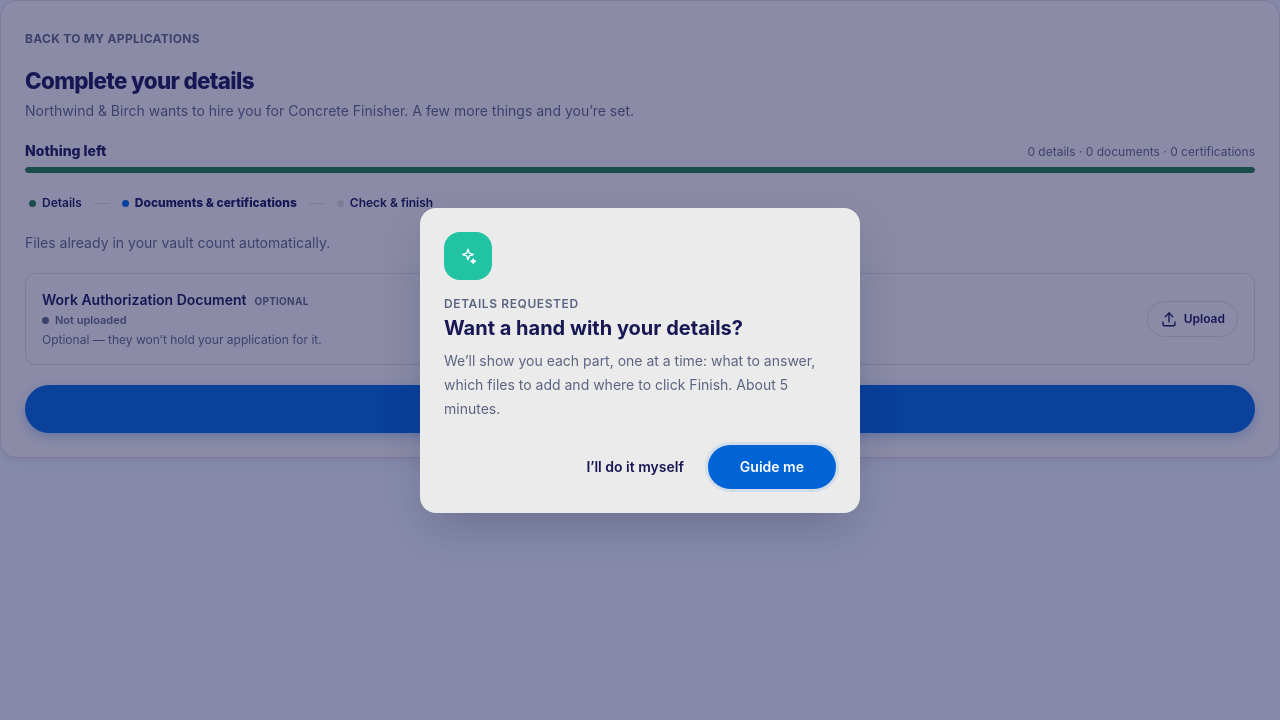
it: worker_details guide — Documents & certifications › lets an optional document go without a file
The image size is (1280, 720).
Click the button "Guide me" at (772, 466), box [708,444,836,488]
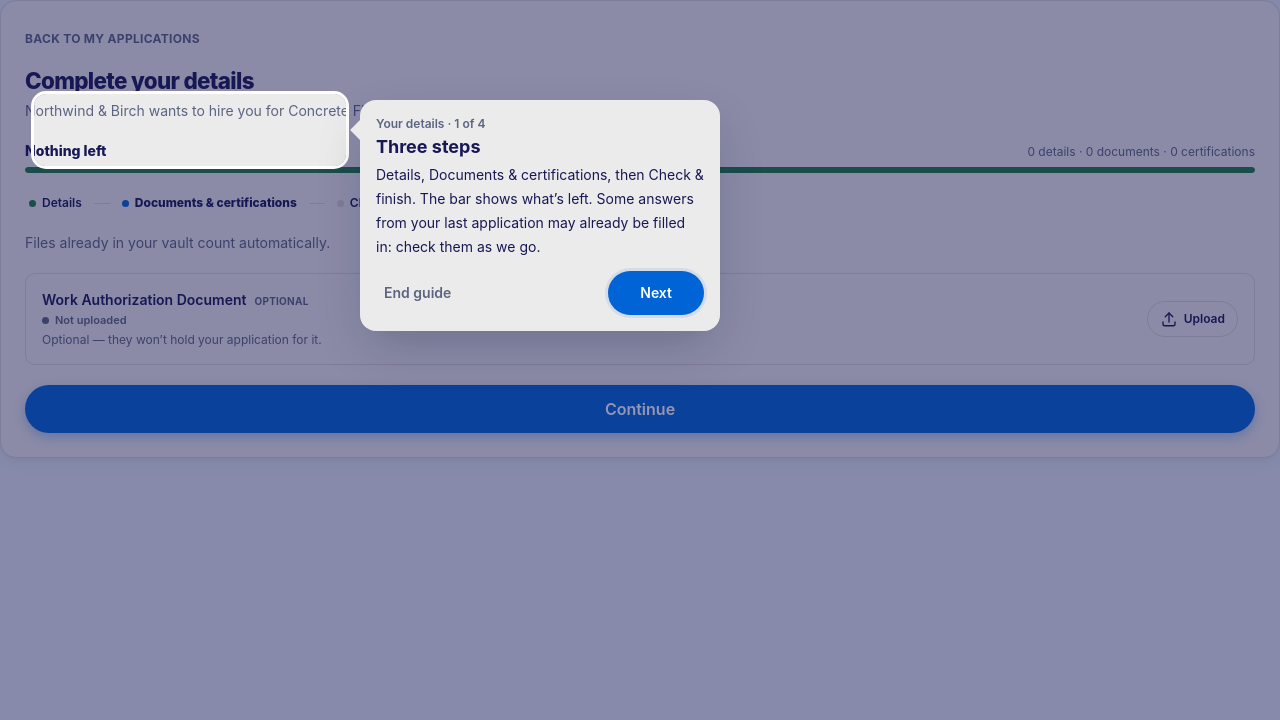
Click the button "Next" at (656, 292), box [608,270,704,314]
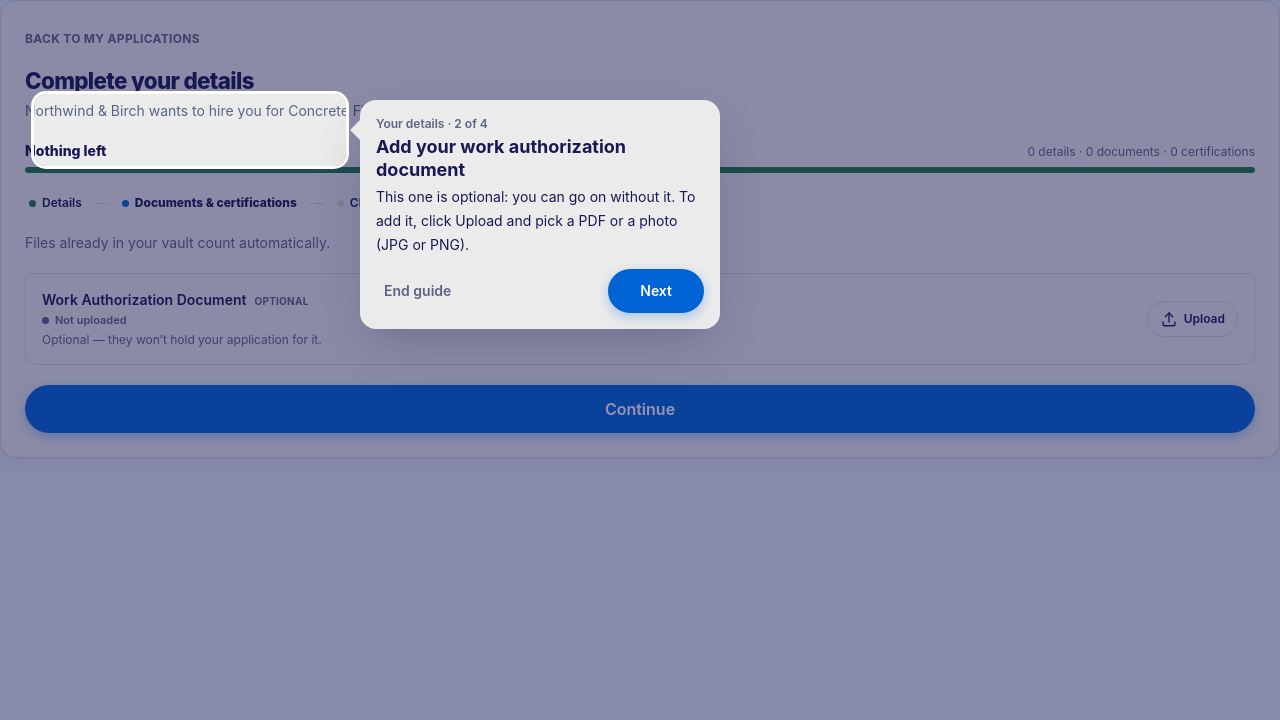
Check: the dialog shows "This one is optional", box [376,188,696,253]
